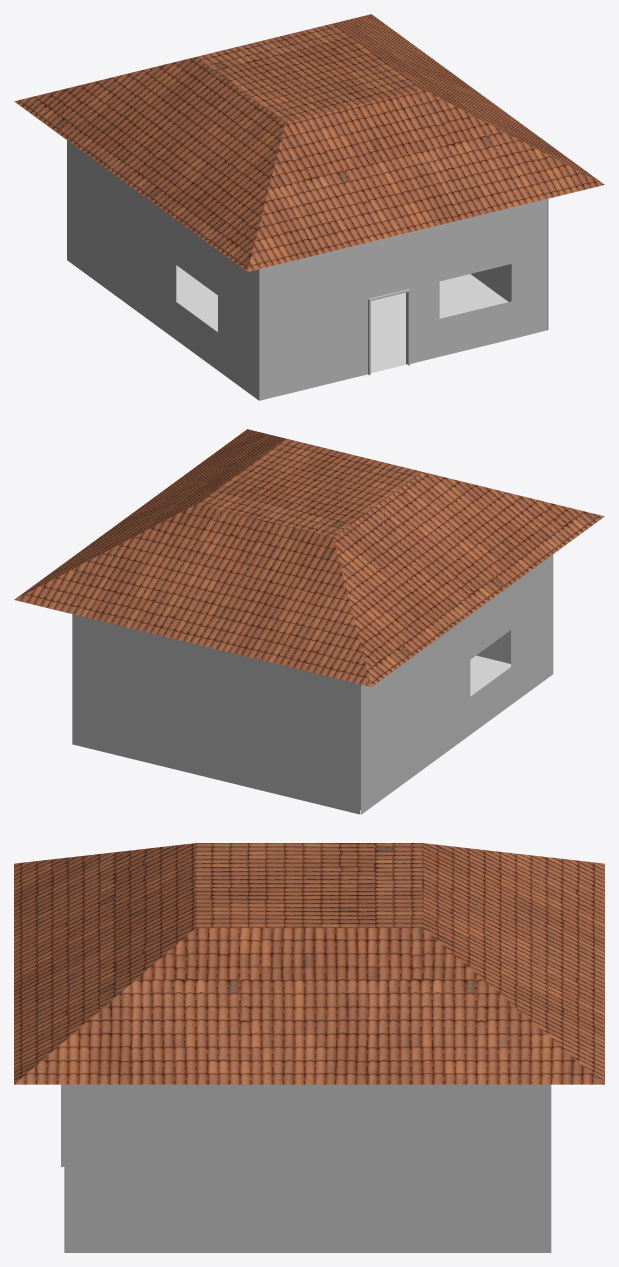
The model's file is Office.fbx.
The picture shows the model from 3 angles, top to bottom: view 1: azimuth 30°, elevation 25°; view 2: azimuth 150°, elevation 25°; view 3: azimuth 270°, elevation 25°; orthographic projection. The views are drawn at different scales.
Parts seen in each view (by area): view 1: Roof.001, FRONT_OUT_WALL.001, Left_outer_wall.001, floor.055, FRONT_OUT_WALL.002, floor.130, floor.066, wall_panel_new.043, floor.041; view 2: Roof.001, Wall_Panel.013, Left_outer_wall.001, floor.190, wall_panel_ne.007; view 3: Roof.001, RIGHT_OUTER_wALL.001.
Boxes of the visible parts, bbox=[...] form: Roof.001: bbox=[14, 14, 604, 271]; FRONT_OUT_WALL.001: bbox=[259, 199, 547, 400]; Left_outer_wall.001: bbox=[67, 140, 259, 400]; floor.055: bbox=[450, 284, 505, 308]; FRONT_OUT_WALL.002: bbox=[368, 289, 410, 375]; floor.130: bbox=[176, 291, 217, 314]; floor.066: bbox=[371, 326, 405, 349]; wall_panel_new.043: bbox=[485, 265, 505, 299]; floor.041: bbox=[439, 274, 484, 293]; Roof.001: bbox=[14, 429, 604, 686]; Wall_Panel.013: bbox=[72, 614, 360, 814]; Left_outer_wall.001: bbox=[361, 554, 553, 814]; floor.190: bbox=[470, 656, 510, 679]; wall_panel_ne.007: bbox=[480, 630, 510, 663]; Roof.001: bbox=[14, 843, 604, 1084]; RIGHT_OUTER_wALL.001: bbox=[64, 1084, 551, 1252].
Size of the model in its own units: 9.93 by 5.86 by 11.22.
